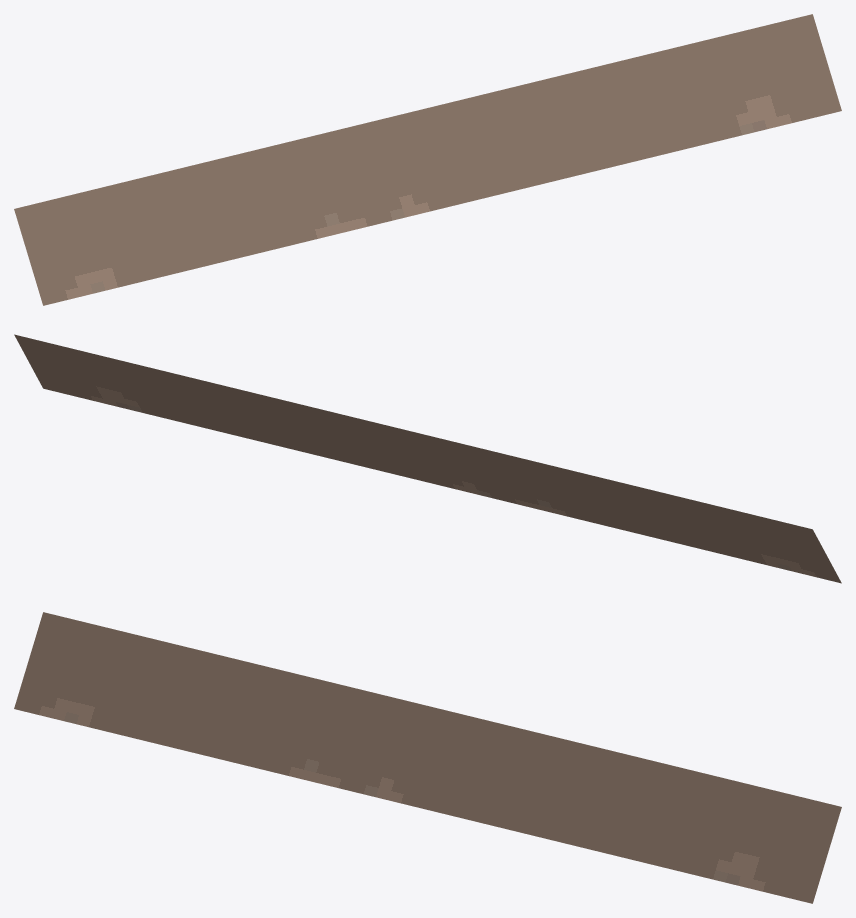
File: kd_stage_135b75_4_51_bounded_portal_piece_1.glb
3 views of the same model, one above another, from view 1: azimuth 30°, elevation 25°; view 2: azimuth 150°, elevation 25°; view 3: azimuth 330°, elevation 25° (orthographic).
Parts seen in each view (by area): view 1: kd_stage_135b75_4_51_bounded_portal_piece_1; view 2: kd_stage_135b75_4_51_bounded_portal_piece_1; view 3: kd_stage_135b75_4_51_bounded_portal_piece_1.
Part boxes in pixels (left/top/right/bottom): kd_stage_135b75_4_51_bounded_portal_piece_1: left=14, top=14, right=841, bottom=305; kd_stage_135b75_4_51_bounded_portal_piece_1: left=14, top=334, right=841, bottom=583; kd_stage_135b75_4_51_bounded_portal_piece_1: left=14, top=612, right=841, bottom=903.
Size of the model in its own units: 0.2 by 0.0181 by 0.0127.
Materials: 1 (1 with a texture image).
